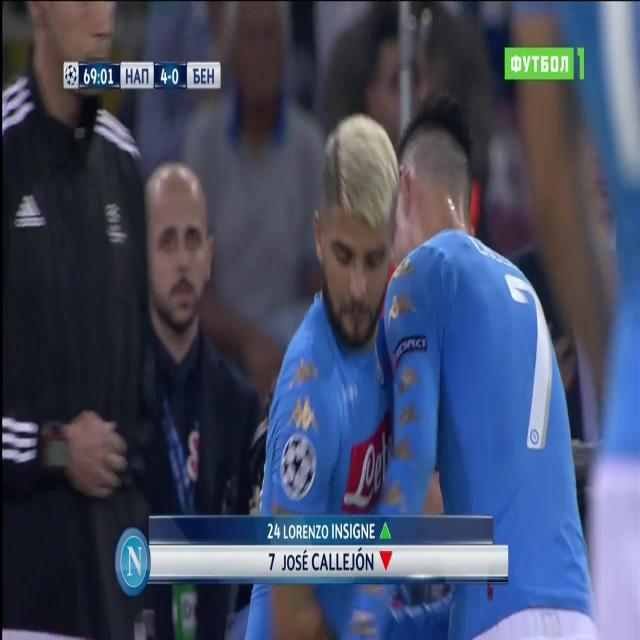Player: (340, 101, 596, 639), (241, 114, 402, 640)
